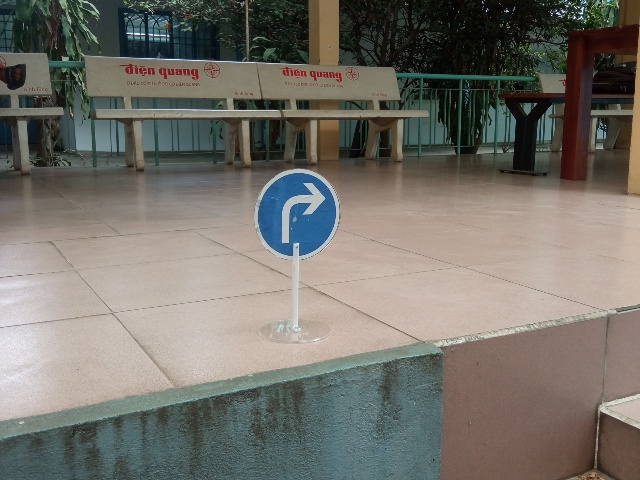Right_Sign: (255, 169, 341, 260)
